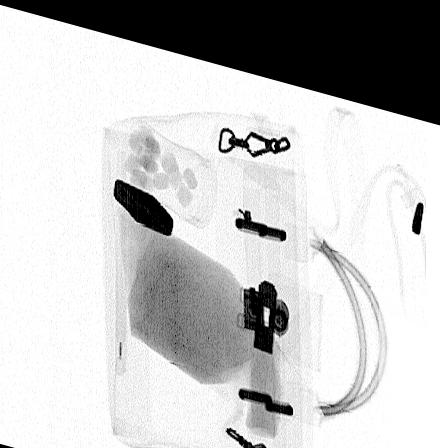Lighter: (113, 172, 174, 226)
